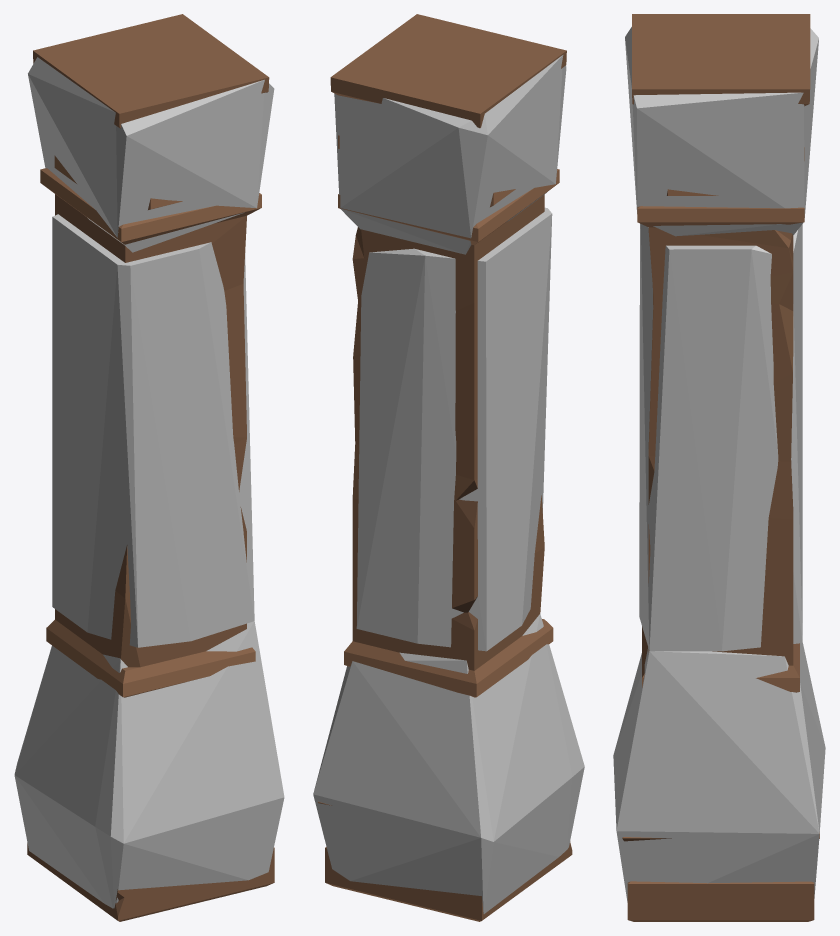
The model's file is SM_Bld_Pillar_01.fbx.
3 renders of one model, left to right at view 1: azimuth 30°, elevation 25°; view 2: azimuth 150°, elevation 25°; view 3: azimuth 270°, elevation 25°, orthographic. The views are drawn at different scales.
Parts seen in each view (by area): view 1: SM_Bld_Pillar_01_ConvexHulls, SM_Bld_Pillar_01; view 2: SM_Bld_Pillar_01_ConvexHulls, SM_Bld_Pillar_01; view 3: SM_Bld_Pillar_01_ConvexHulls, SM_Bld_Pillar_01.
Boxes of the visible parts, bbox=[...] form: SM_Bld_Pillar_01_ConvexHulls: bbox=[14, 57, 284, 908]; SM_Bld_Pillar_01: bbox=[27, 14, 274, 921]; SM_Bld_Pillar_01_ConvexHulls: bbox=[313, 55, 584, 913]; SM_Bld_Pillar_01: bbox=[318, 14, 572, 921]; SM_Bld_Pillar_01_ConvexHulls: bbox=[613, 27, 825, 902]; SM_Bld_Pillar_01: bbox=[622, 14, 819, 921].
Bounding box in the file's own units: 69.37 × 69.38 × 301.
2 materials, 1 textured.
